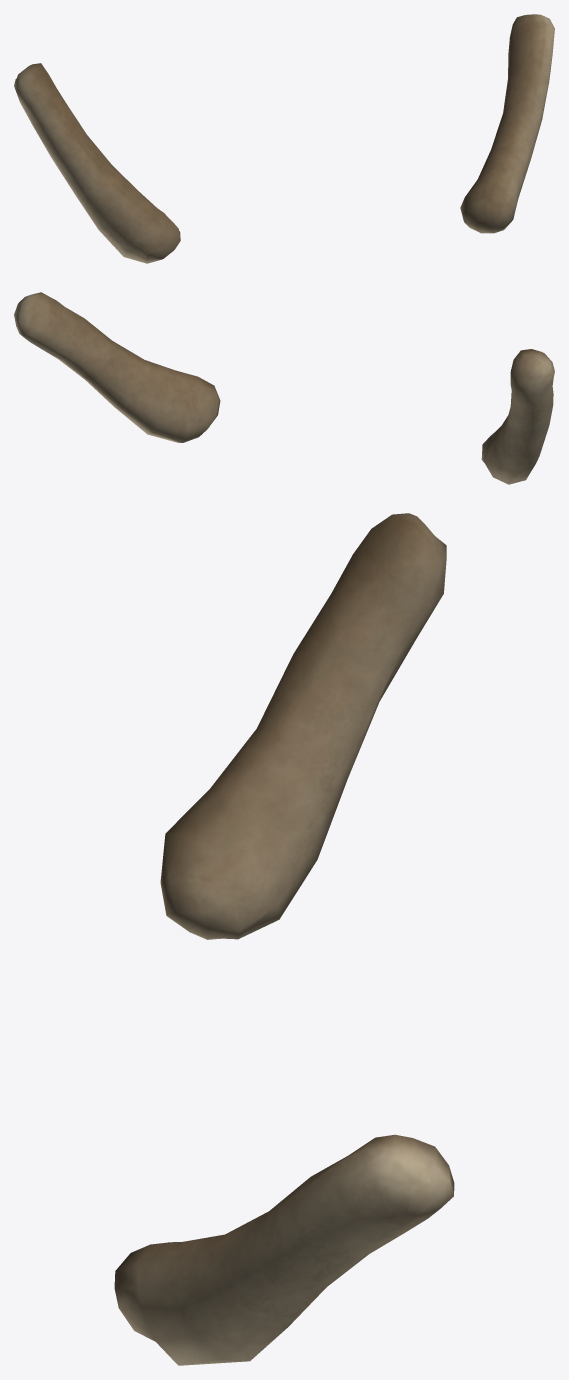
File: Thyrohyoid.glb
3 views of the same model, one above another, from view 1: azimuth 30°, elevation 25°; view 2: azimuth 150°, elevation 25°; view 3: azimuth 270°, elevation 25° (orthographic). The views are drawn at different scales.
Visible parts, largest first — view 1: Thyrohyoid1:Group57151; view 2: Thyrohyoid1:Group57151; view 3: Thyrohyoid1:Group57151.
Boxes of the visible parts, x1=… form: Thyrohyoid1:Group57151: x1=14, y1=14, x2=554, y2=263; Thyrohyoid1:Group57151: x1=14, y1=292, x2=554, y2=484; Thyrohyoid1:Group57151: x1=114, y1=513, x2=454, y2=1365.
Size of the model in its own units: 38.07 by 15.46 by 10.51.
Materials: 1 (1 with a texture image).
